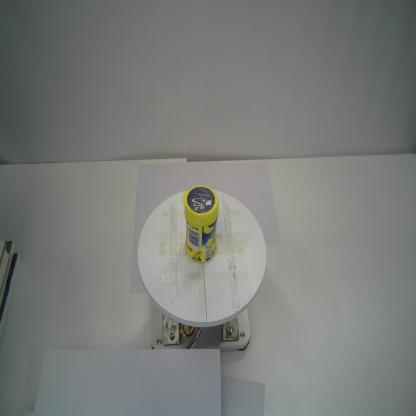Gum: (182, 185, 220, 263)
